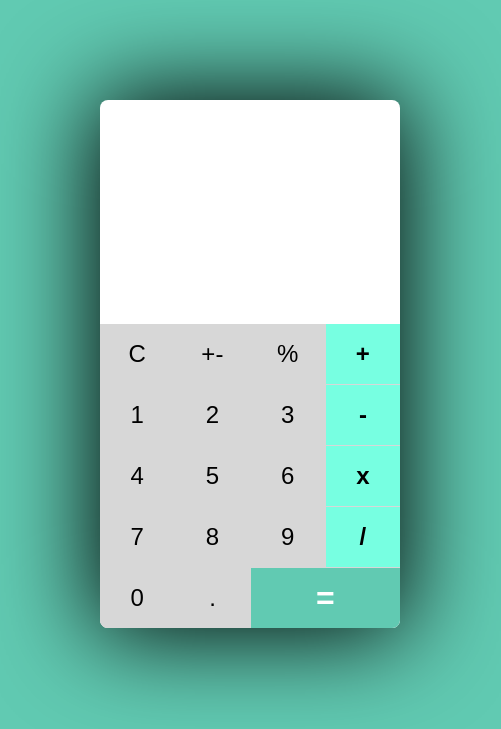
Calculator › Should let join add and substract ops
Click the button "5" at coordinates (212, 476), box [175, 446, 250, 506]
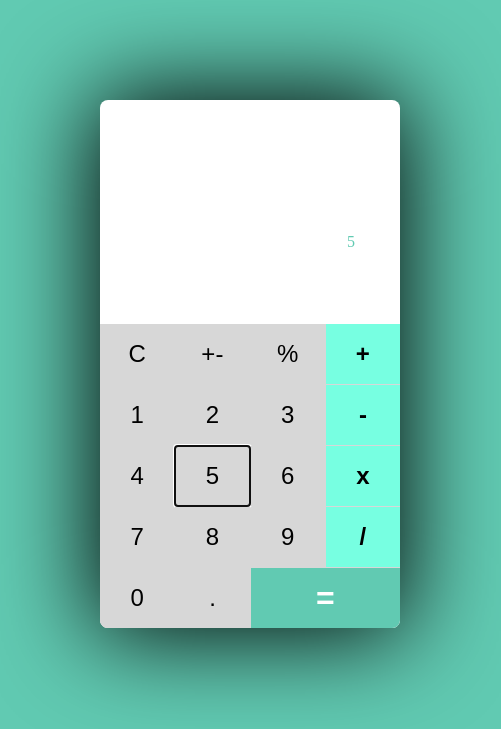
Click the button "-" at coordinates (363, 415), box [326, 385, 400, 445]
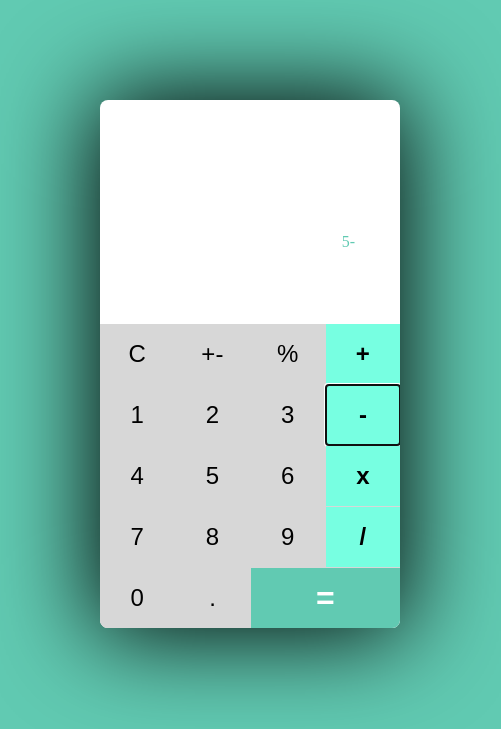
Click the button "1" at coordinates (137, 415), box [100, 385, 174, 445]
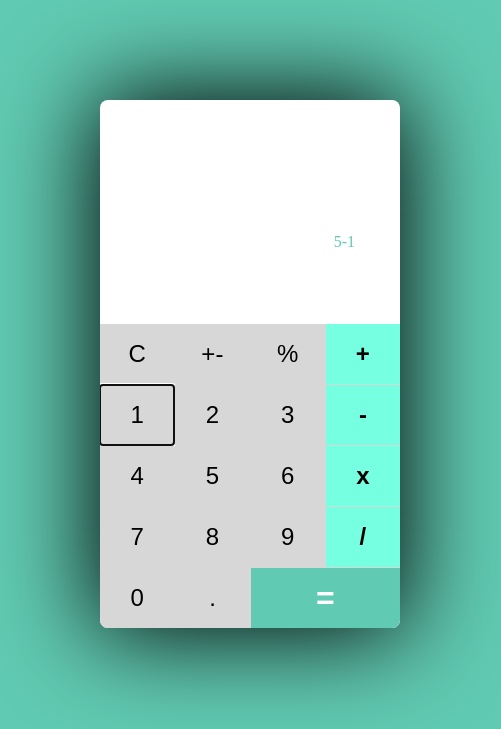
Click the button "+" at coordinates (363, 354), box [326, 324, 400, 384]
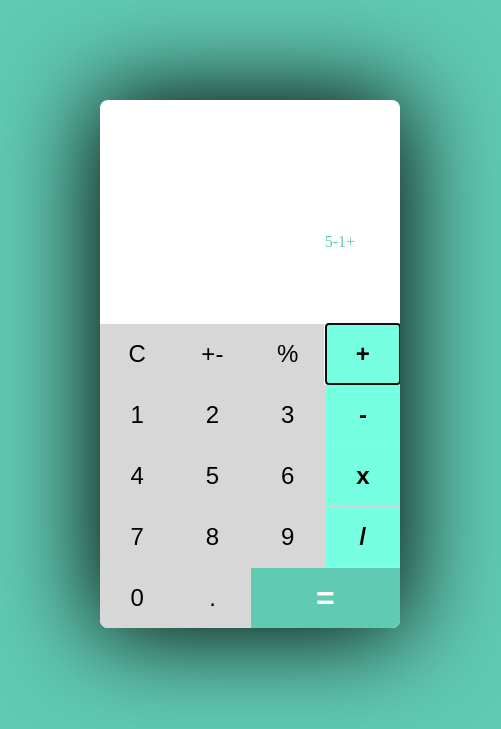
Click the button "3" at coordinates (288, 415), box [250, 385, 325, 445]
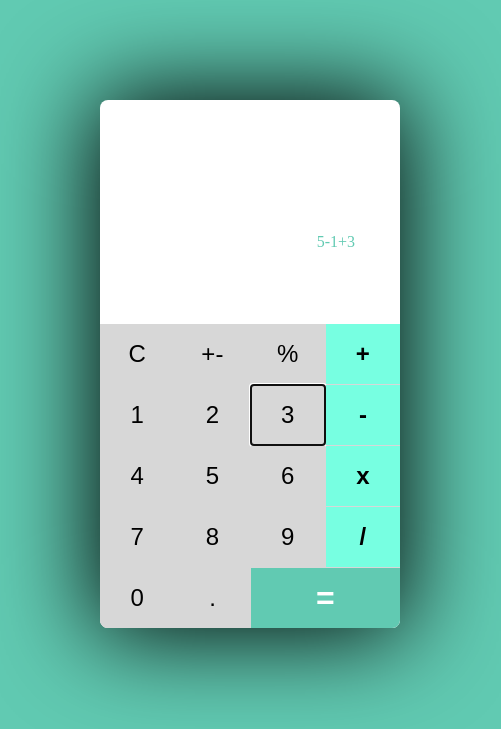
Click the button "=" at coordinates (325, 598), box [251, 568, 400, 628]
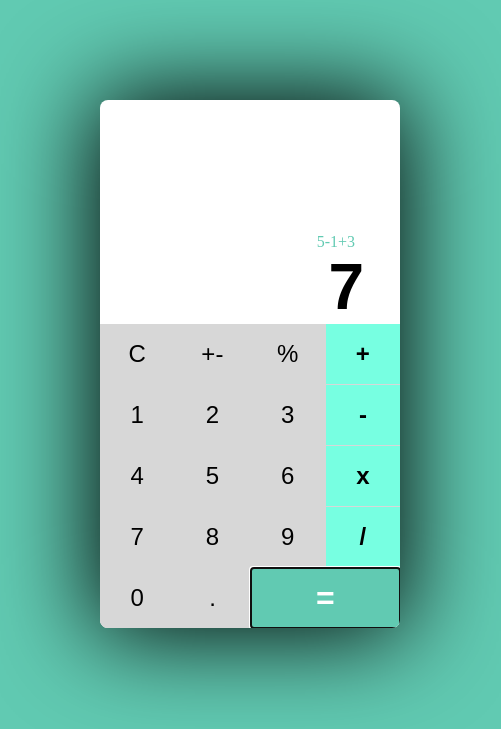
Now the field showing "7" is shown, box [130, 250, 370, 324]
